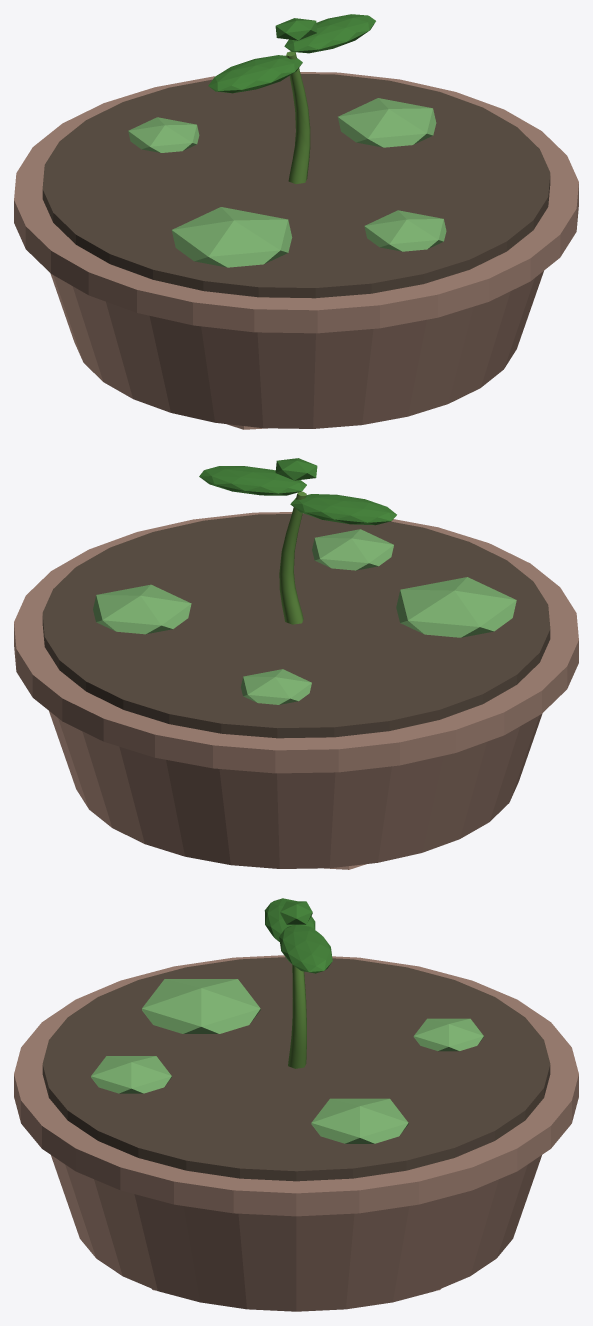
File: bonsai_1_sprout.glb
3 renders of one model, top to bottom at view 1: azimuth 30°, elevation 25°; view 2: azimuth 150°, elevation 25°; view 3: azimuth 270°, elevation 25°, orthographic.
Parts seen in each view (by area): view 1: soil, pot, moss, leaves, stem; view 2: soil, pot, moss, leaves, stem; view 3: soil, pot, moss, leaves, stem.
Part boxes in pixels (bbox=[...]): soil: bbox=[42, 74, 550, 298]; pot: bbox=[14, 72, 578, 429]; moss: bbox=[128, 98, 446, 267]; leaves: bbox=[208, 14, 375, 93]; stem: bbox=[286, 51, 310, 183]; soil: bbox=[42, 513, 550, 738]; pot: bbox=[14, 512, 578, 869]; moss: bbox=[93, 529, 516, 704]; leaves: bbox=[199, 458, 396, 525]; stem: bbox=[279, 491, 306, 624]; soil: bbox=[42, 957, 550, 1181]; pot: bbox=[14, 955, 578, 1311]; moss: bbox=[91, 979, 483, 1143]; leaves: bbox=[264, 898, 332, 973]; stem: bbox=[288, 964, 306, 1068].
Bounding box in the file's own units: 0.178 × 0.113 × 0.178.
